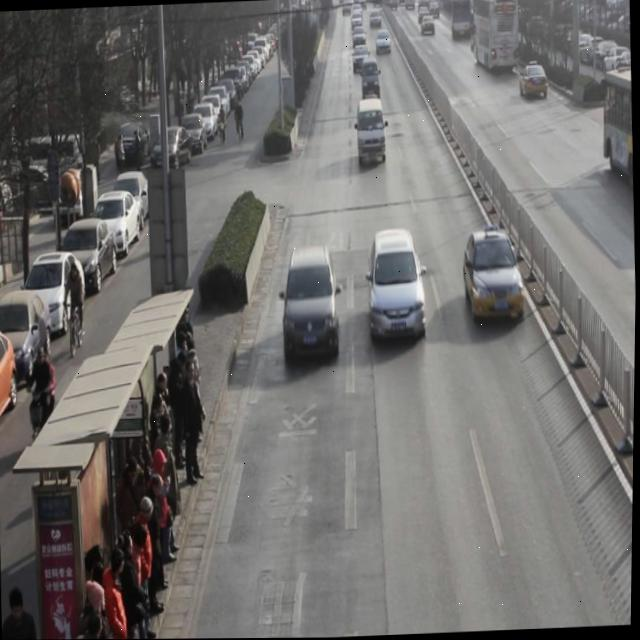car: (280, 242, 343, 364), (368, 225, 428, 339), (463, 226, 528, 324), (518, 62, 549, 99), (351, 42, 371, 76), (375, 28, 393, 56)
truck: (356, 95, 387, 167), (360, 55, 381, 100)
van: (598, 68, 636, 201), (465, 0, 517, 73)
